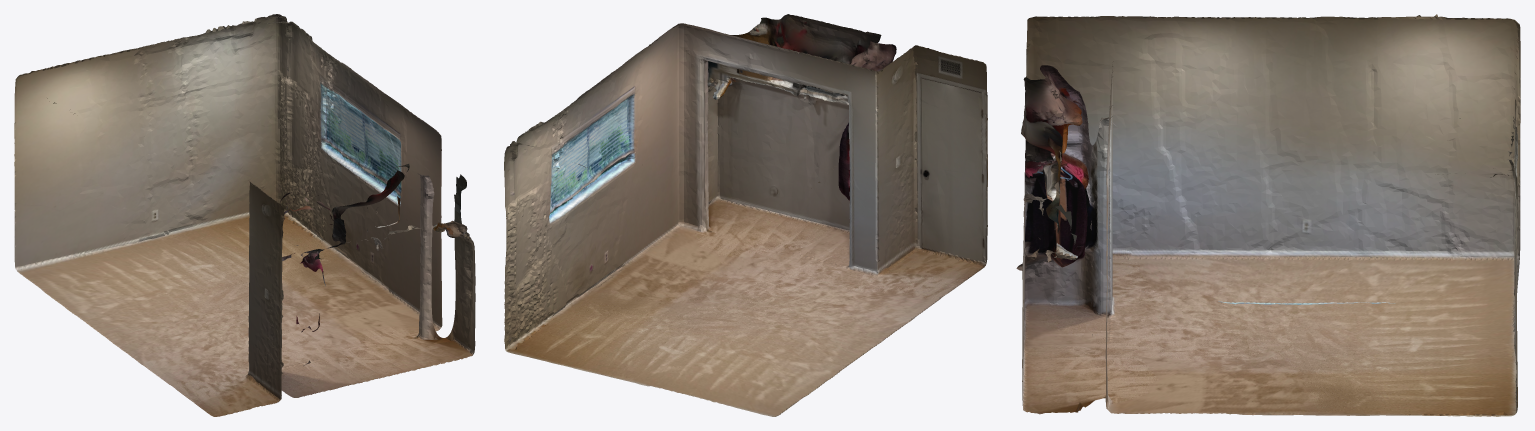
Rendered from davidsbedroom.glb.
3 renders of one model, left to right at view 1: azimuth 30°, elevation 25°; view 2: azimuth 150°, elevation 25°; view 3: azimuth 270°, elevation 25°, orthographic. The views are drawn at different scales.
Size of the model in its own units: 3.49 by 2.44 by 4.54.
1 material, 1 textured.
